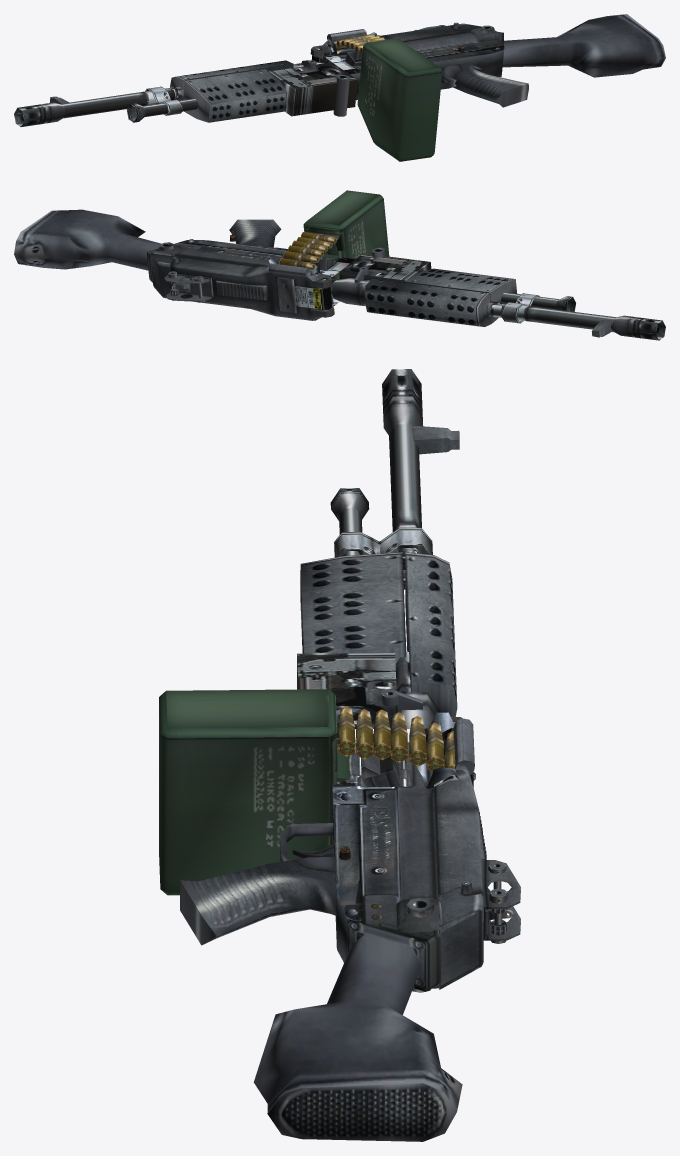
3 views of the same model, one above another, from view 1: azimuth 30°, elevation 25°; view 2: azimuth 150°, elevation 25°; view 3: azimuth 270°, elevation 25° (orthographic). The views are drawn at different scales.
Visible parts, largest first — view 1: _m58_1st; view 2: _m58_1st; view 3: _m58_1st.
Part boxes in pixels (x1=…): _m58_1st: x1=14, y1=14, x2=665, y2=161; _m58_1st: x1=14, y1=190, x2=665, y2=340; _m58_1st: x1=159, y1=369, x2=520, y2=1141.
Bounding box in the file's own units: 1.16 × 0.1648 × 0.2969.
Materials: 3 (3 with a texture image).
